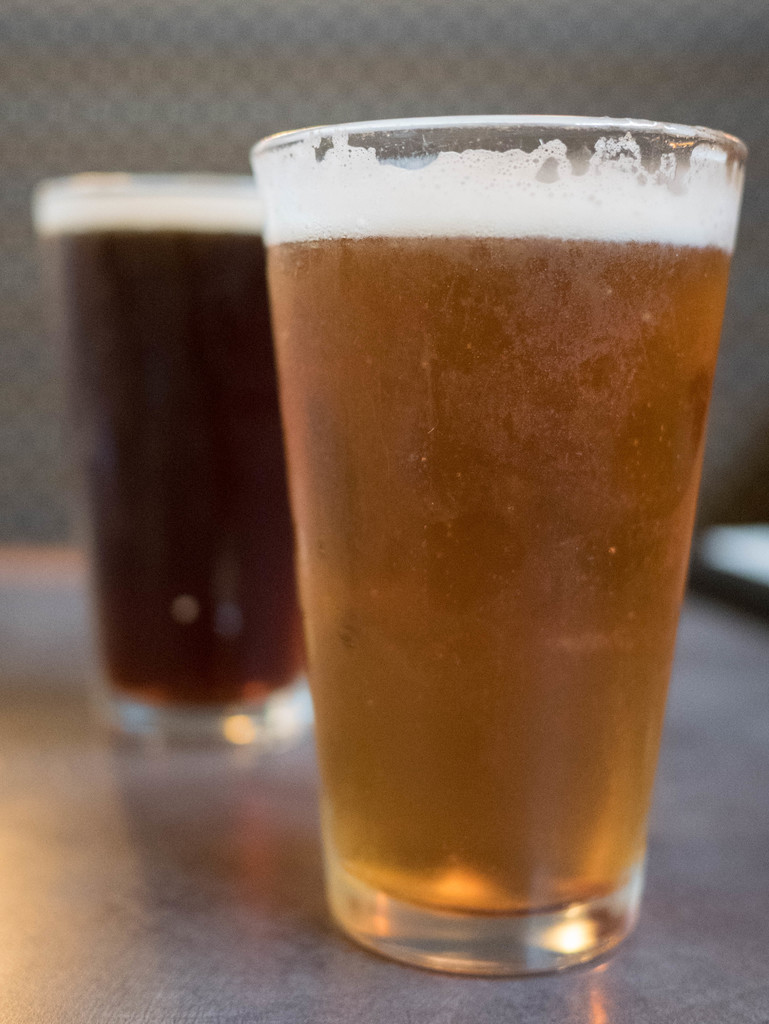Beer: (245, 104, 744, 994), (7, 149, 323, 777)
